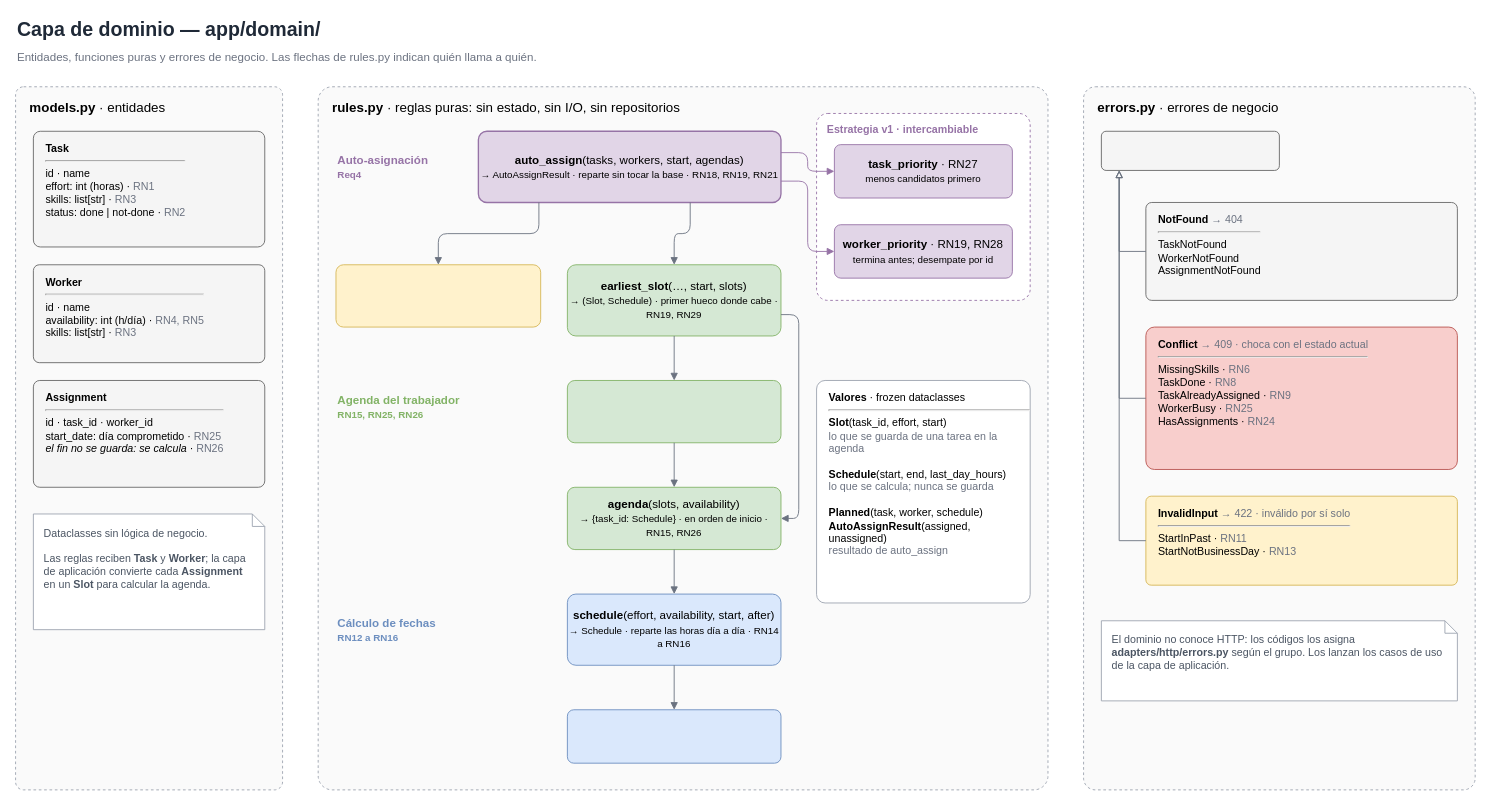
This 1491x805 diagram has some shape labels left out. Here are the shapes that lost their labels. From the top down, the centre of each, then its label:
At pixel 1189 150: "DomainError".
At pixel 438 295: "can_take (task_skills, worker_skills) task ⊆ worker · Req3a, RN6, RN7".
At pixel 673 411: "late_starts (slots, availability) → tareas sin horas en su día de inicio · RN25".
At pixel 673 736: "business_day (day) fin de semana → lunes · RN12, RN13".
